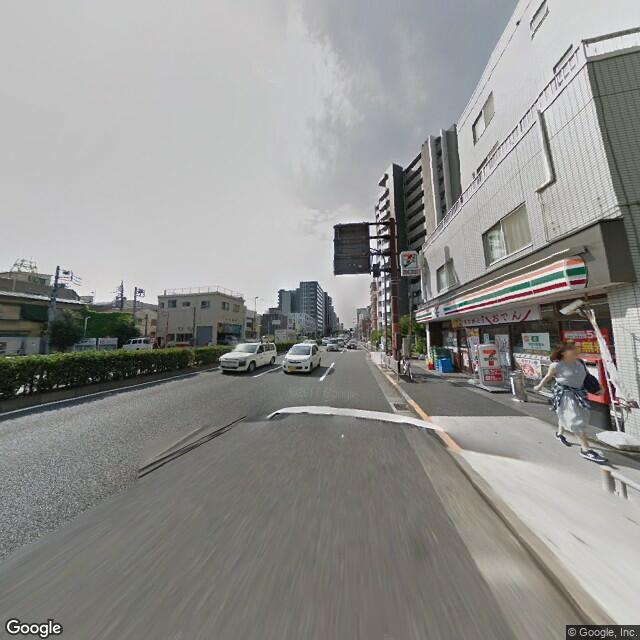7-eleven: (414, 247, 594, 326), (479, 341, 501, 372), (402, 250, 416, 272)
